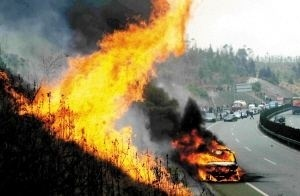fire: (7, 12, 189, 188), (175, 126, 244, 181)
